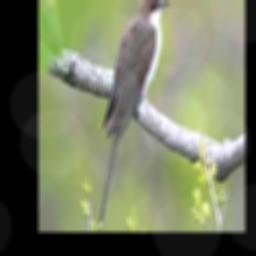Cuckoo: (98, 0, 168, 226)
